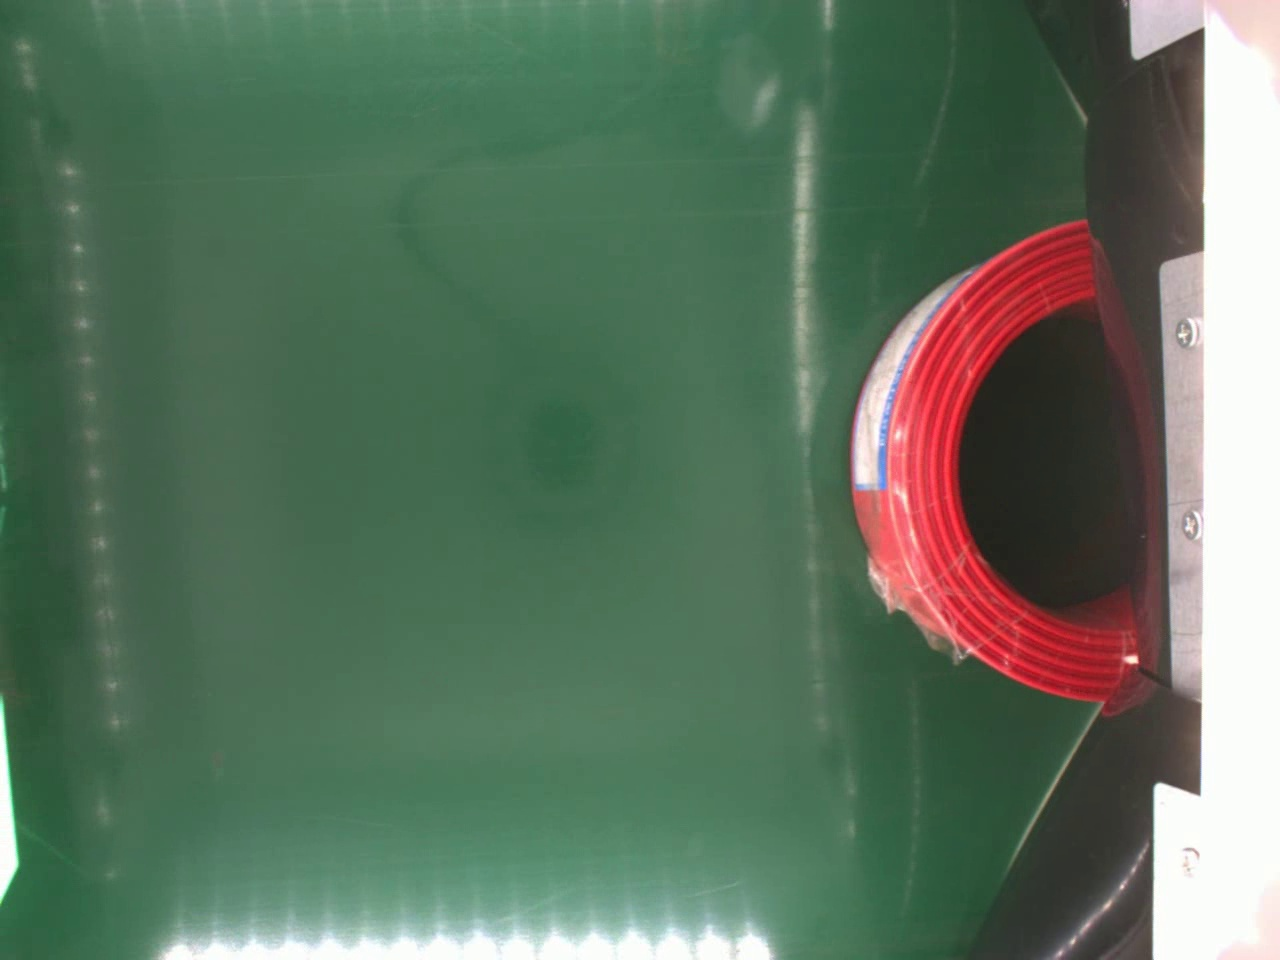red: (844, 218, 1145, 699)
